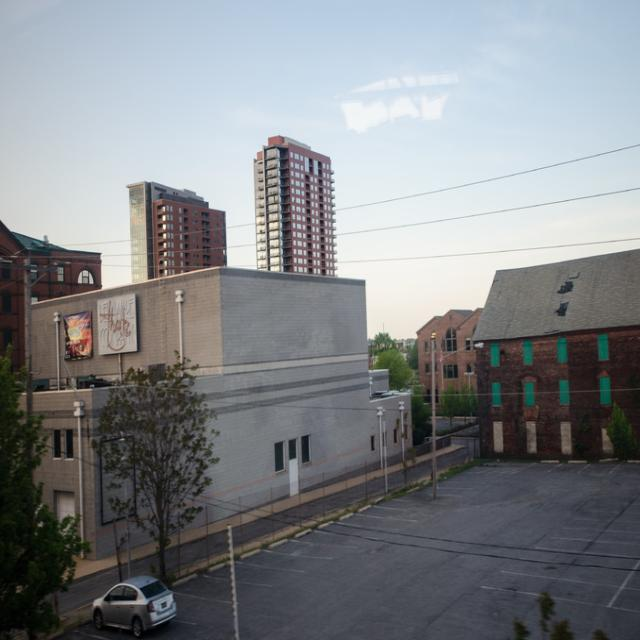car: (93, 573, 176, 638)
